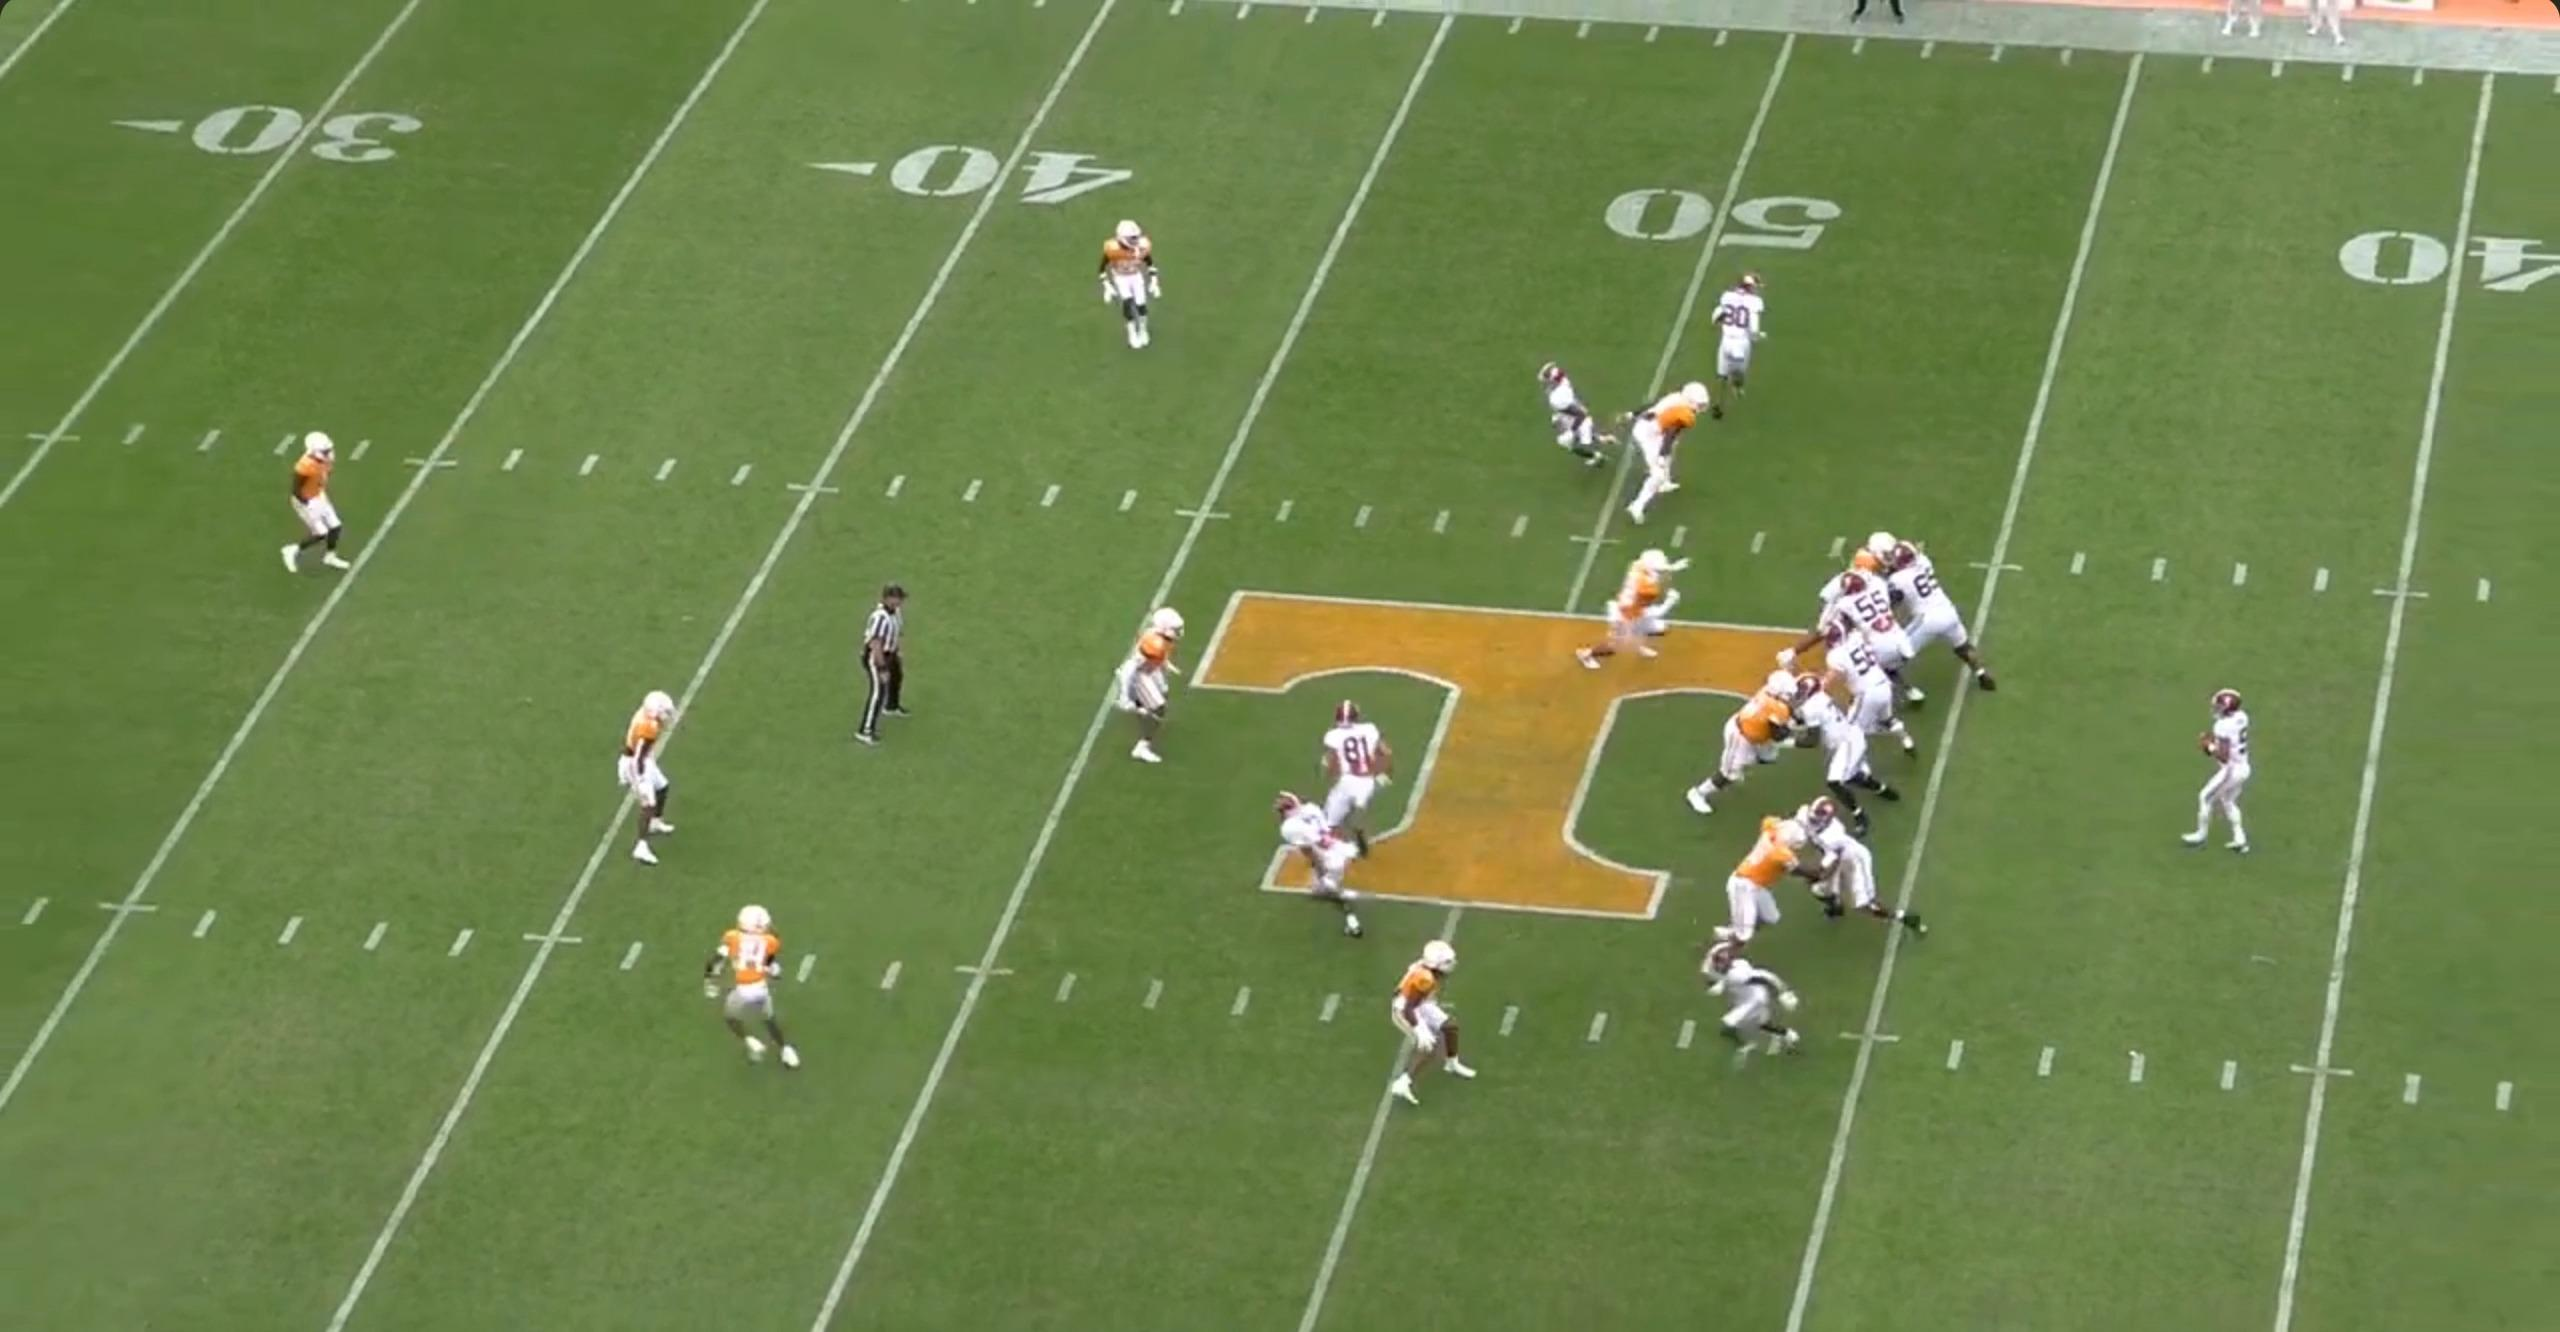player: (1792, 804, 1928, 950), (1686, 661, 1804, 819), (692, 903, 793, 1080), (1885, 541, 1998, 690), (1384, 935, 1478, 1110), (1778, 685, 1894, 825), (1271, 785, 1376, 939), (2172, 679, 2262, 858), (1701, 815, 1806, 967), (1580, 548, 1694, 681), (1707, 929, 1815, 1063), (1113, 603, 1200, 769), (1612, 372, 1705, 524), (1309, 700, 1391, 867), (603, 687, 674, 873), (1831, 627, 1926, 760), (1842, 580, 1932, 716), (276, 429, 354, 585), (1105, 214, 1177, 357), (1532, 360, 1618, 474), (1704, 268, 1773, 404), (1804, 539, 1883, 642)
ref: (843, 586, 914, 760), (1846, 0, 1923, 34)
